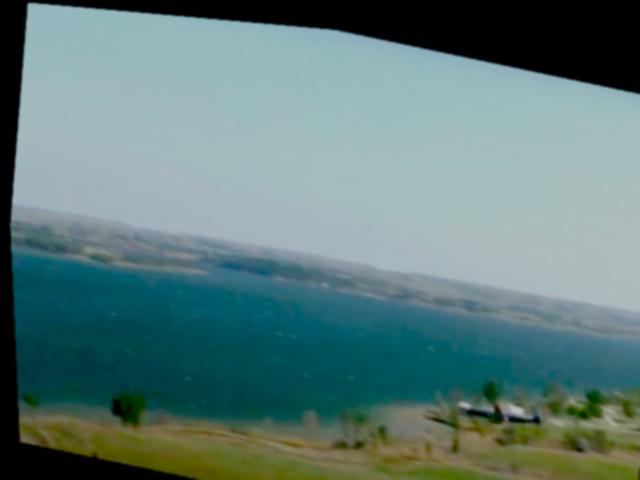iha: (445, 381, 543, 429)
